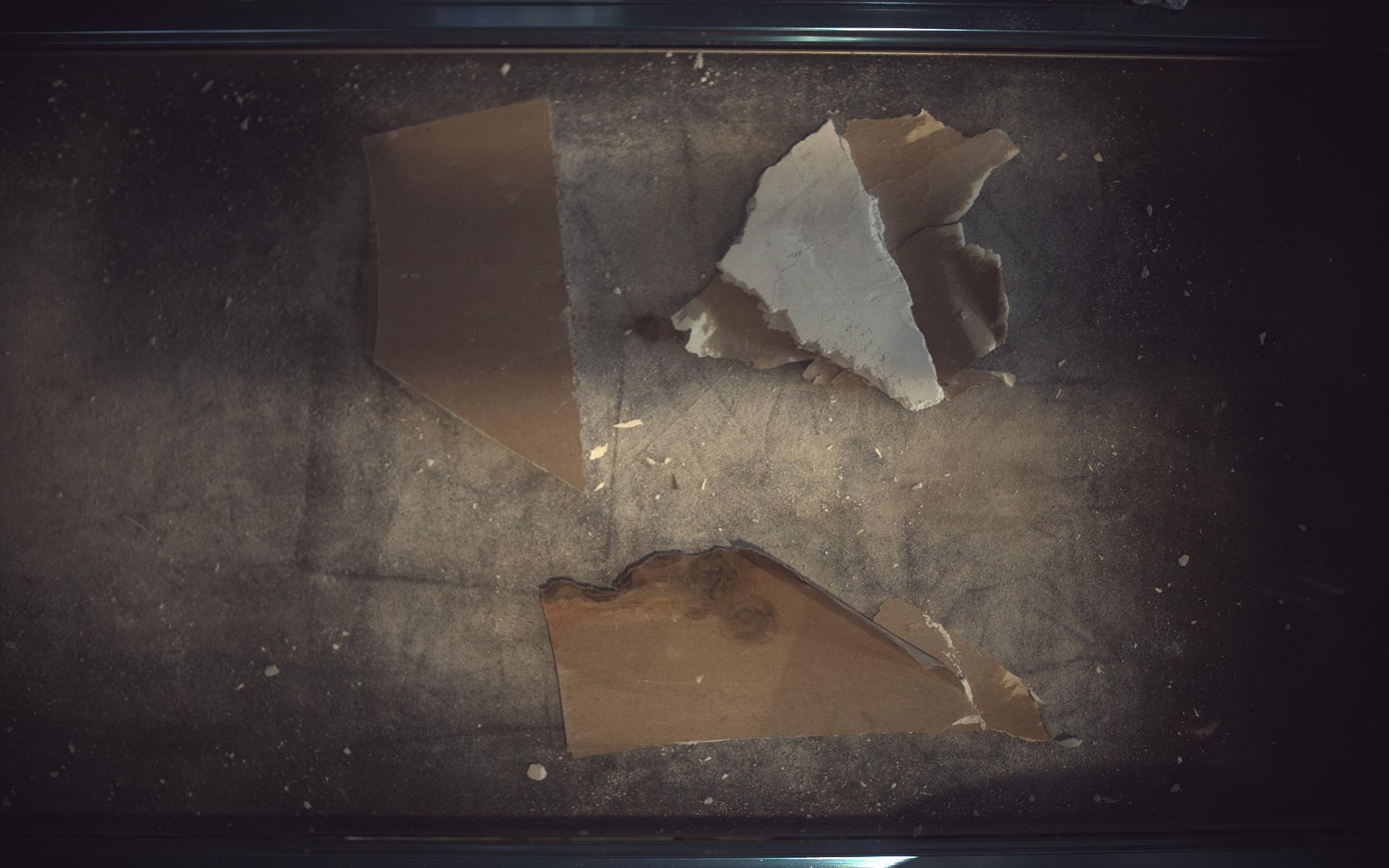gypsum_board: (541, 546, 1053, 758), (674, 110, 1021, 410), (362, 97, 586, 490)
